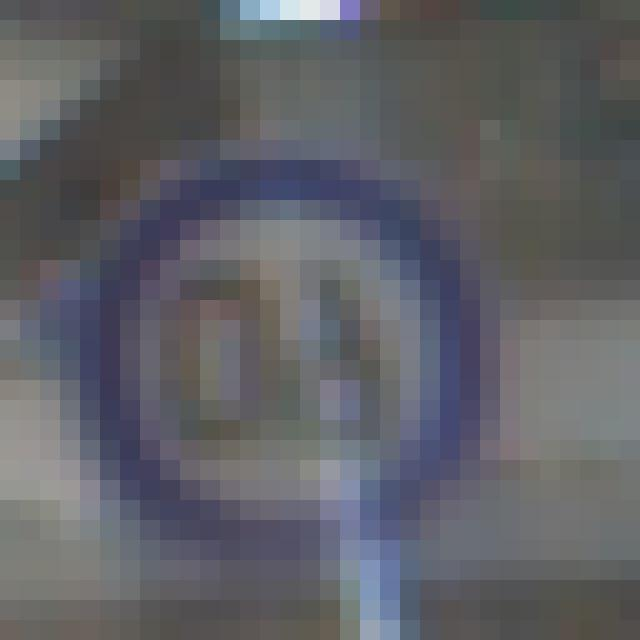SPEED-LIMIT-60: (43, 142, 486, 571)
